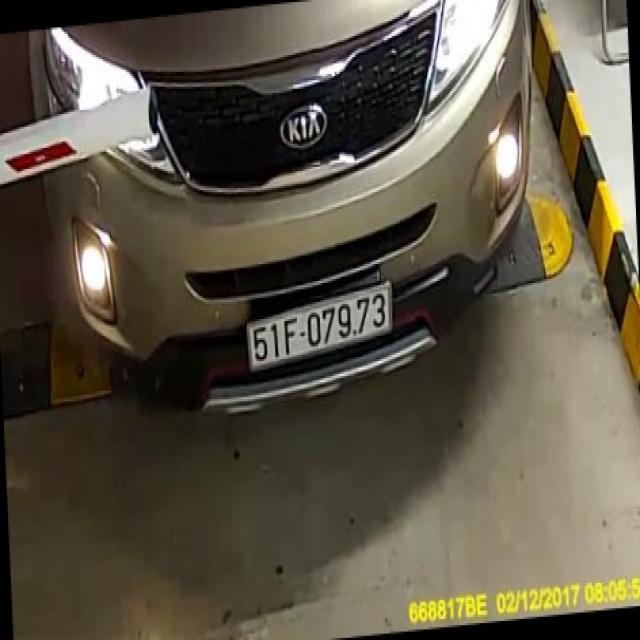car: (22, 0, 543, 419)
plate: (245, 278, 396, 372)
